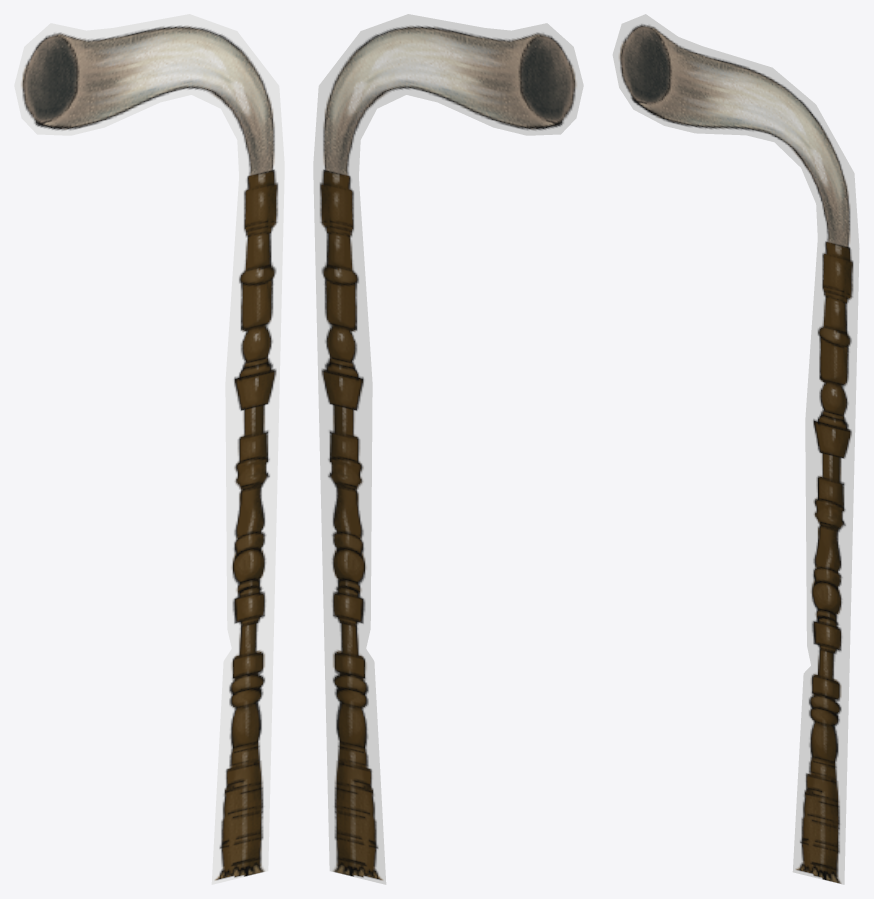
3 renders of one model, left to right at view 1: azimuth 30°, elevation 25°; view 2: azimuth 150°, elevation 25°; view 3: azimuth 330°, elevation 25°, orthographic. The views are drawn at different scales.
Parts seen in each view (by area): view 1: Plane; view 2: Plane; view 3: Plane.
Part boxes in pixels (<box>): Plane: <box>14,14,284,884</box>; Plane: <box>313,14,583,884</box>; Plane: <box>612,14,859,884</box>.
Size of the model in its own units: 1.66 by 5.29 by 0.
Materials: 1 (1 with a texture image).
